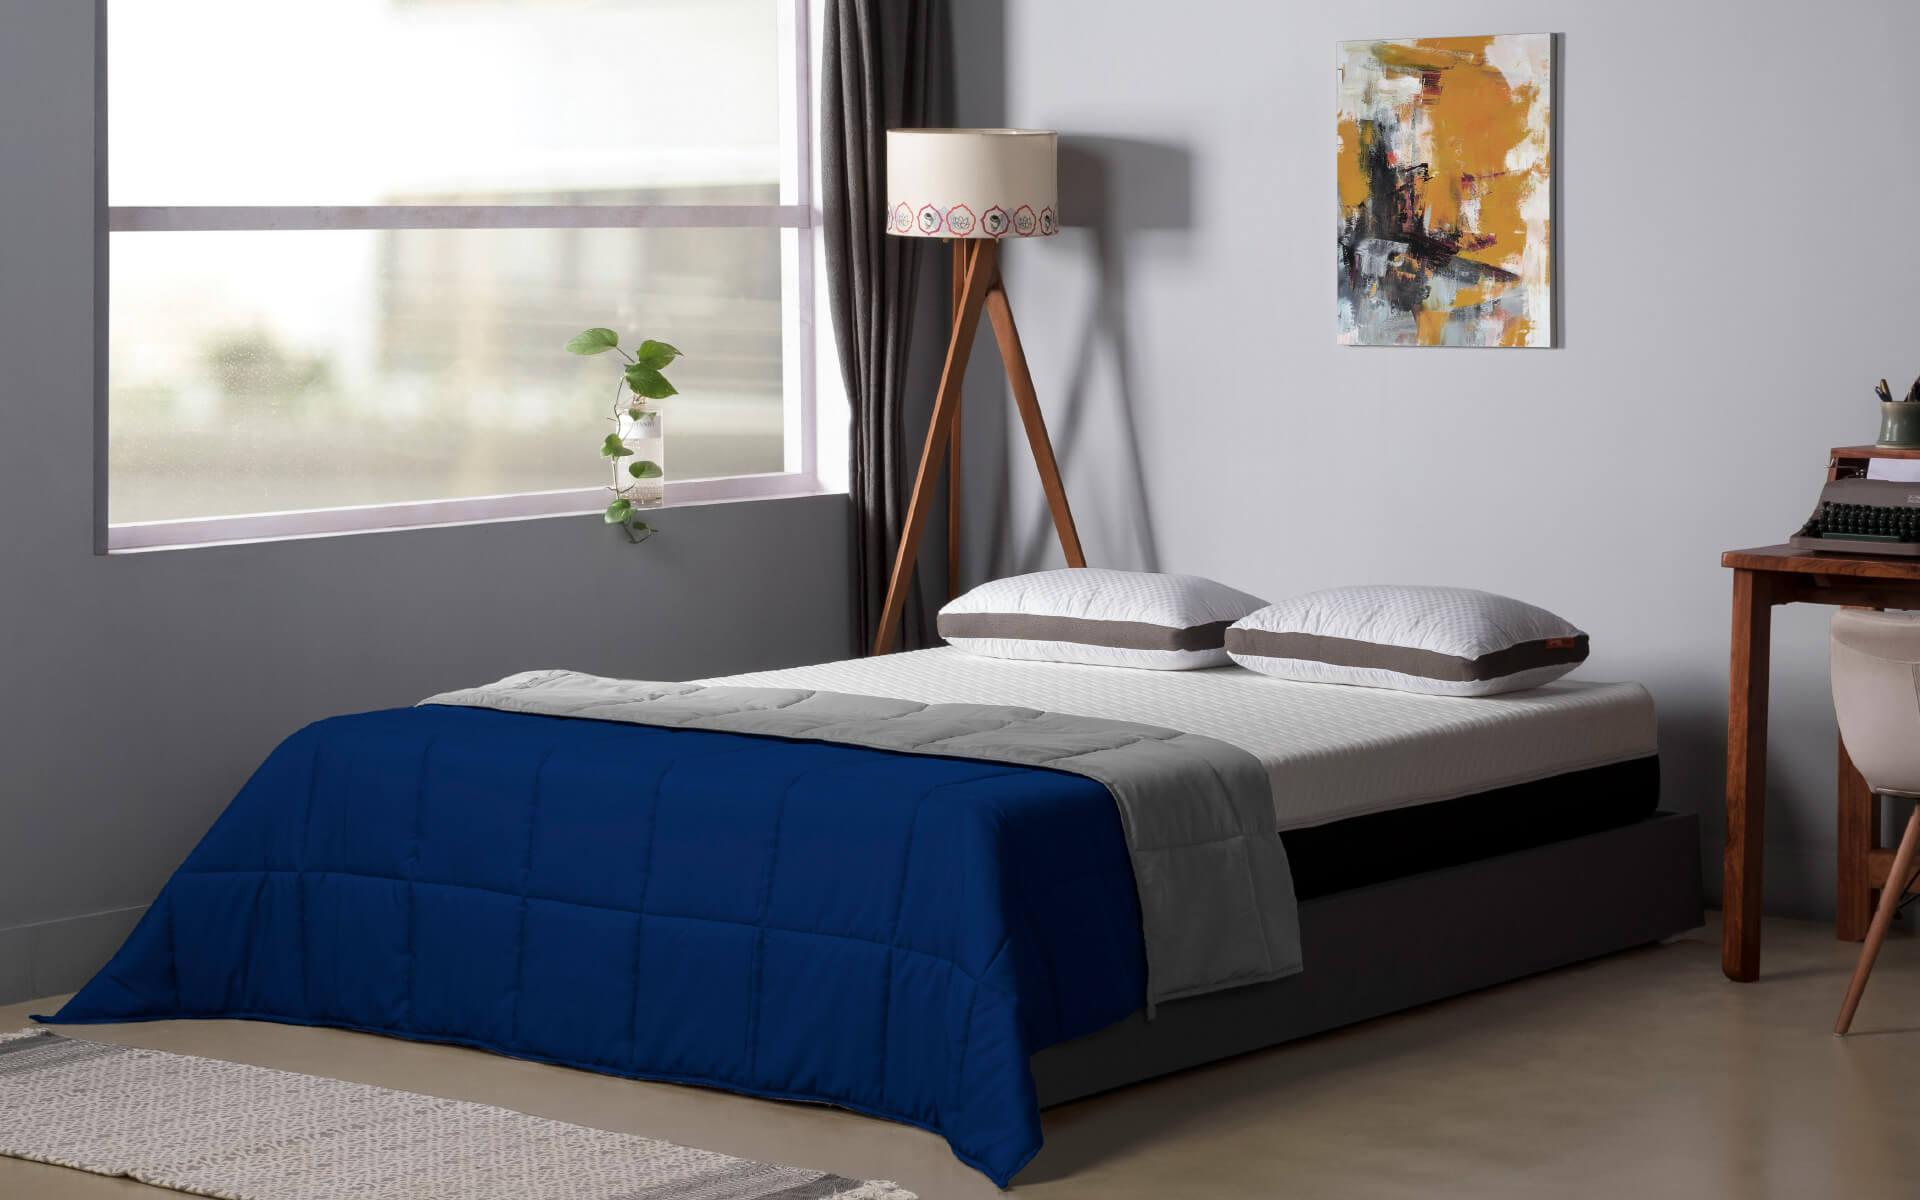bed: (440, 398, 1552, 975)
